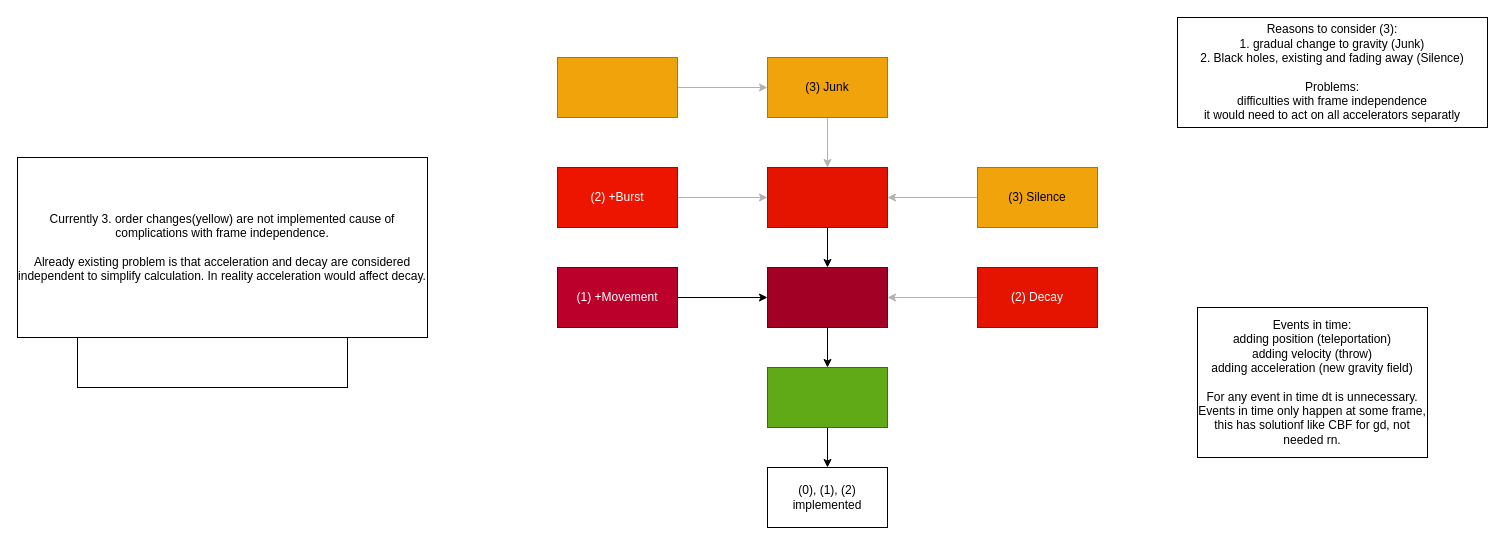
This 1505x545 diagram has some shape labels left out. Each missing label, with the centre of its shape:
"(0) Position" belongs at point 827,397.
"(1) Velocity" belongs at point 827,297.
"(2) Acceleration" belongs at point 827,197.
"(3) +Pull" belongs at point 617,87.
"In extreme we get to differential calculus. Approximations are fine." belongs at point 212,362.
